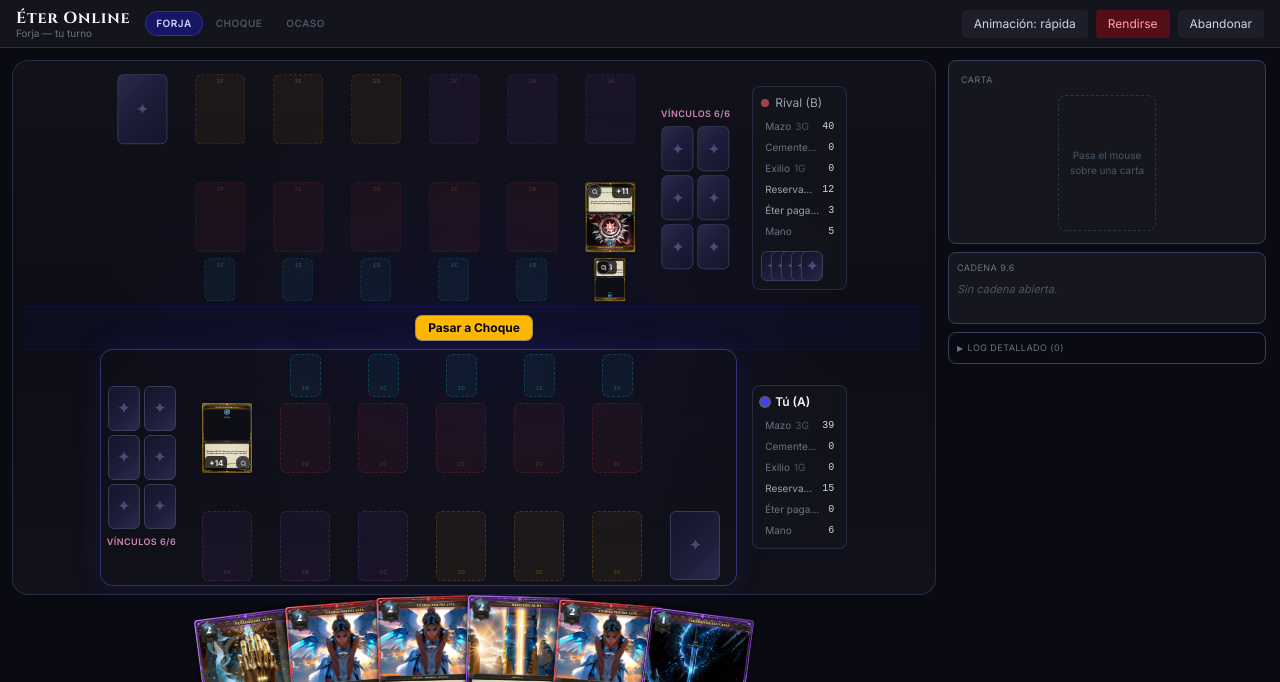
it: Grilla rival invertida y Éteres pagados (1A) › el panel de Éteres pagados también funciona en la grilla del rival (invertida)
The width and height of the screenshot is (1280, 682).
Step 1. Click the element titled "Éter de la Tormenta" → click(610, 280), box 594,258 -> 625,302
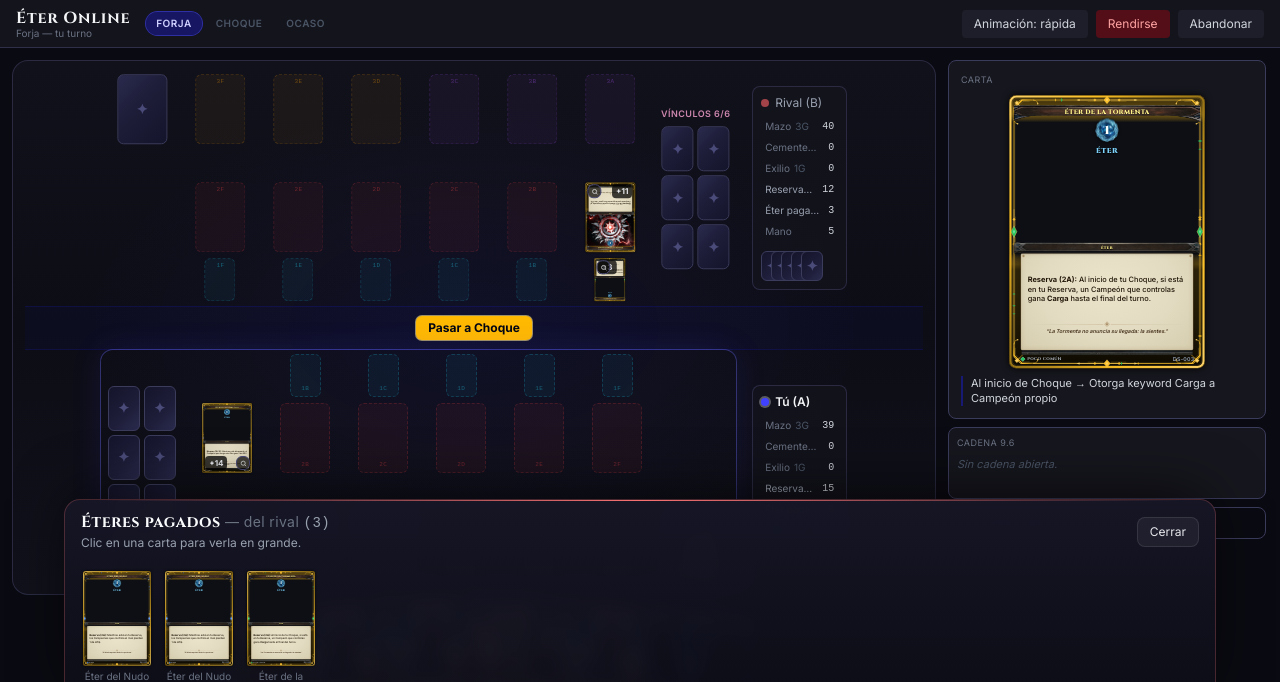
Expected: the heading "Éteres pagados — del rival (3)" is shown, 81,511 -> 330,533
Expected: the text "— del rival" is shown, 221,513 -> 299,530
Step 2. Click the button "Cerrar" → click(1168, 532), box 1137,517 -> 1199,547
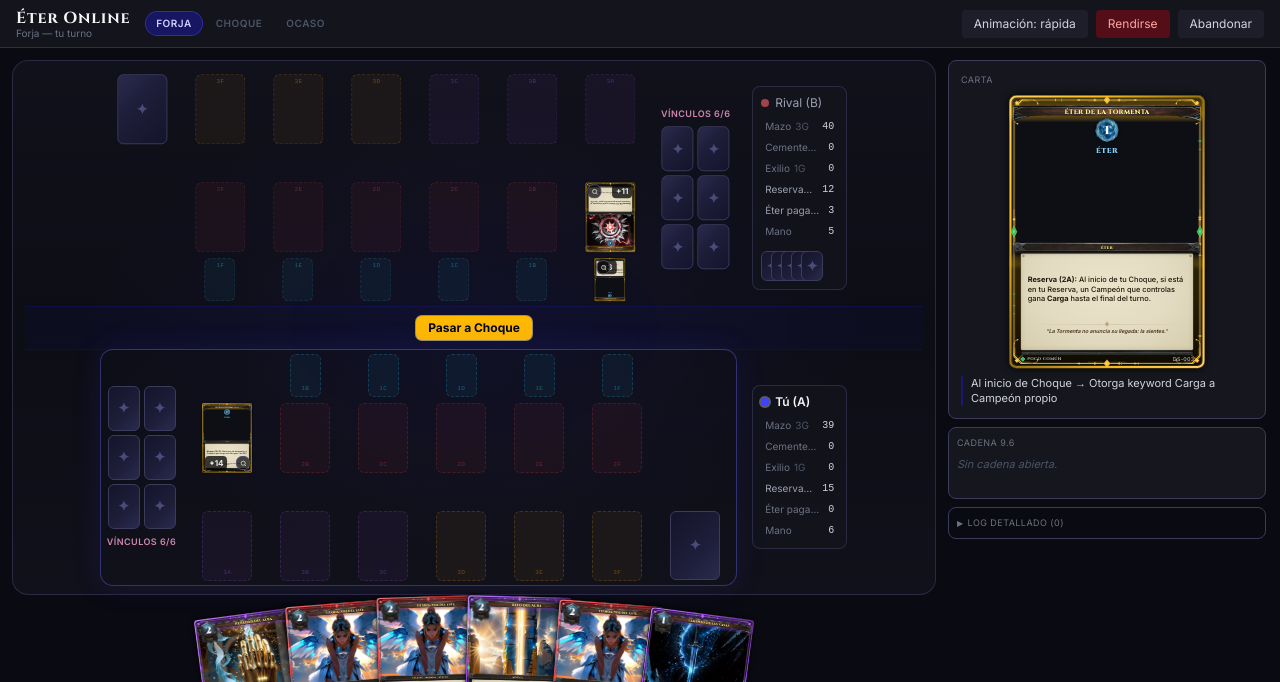
Expected: the heading "Éteres pagados" is gone
